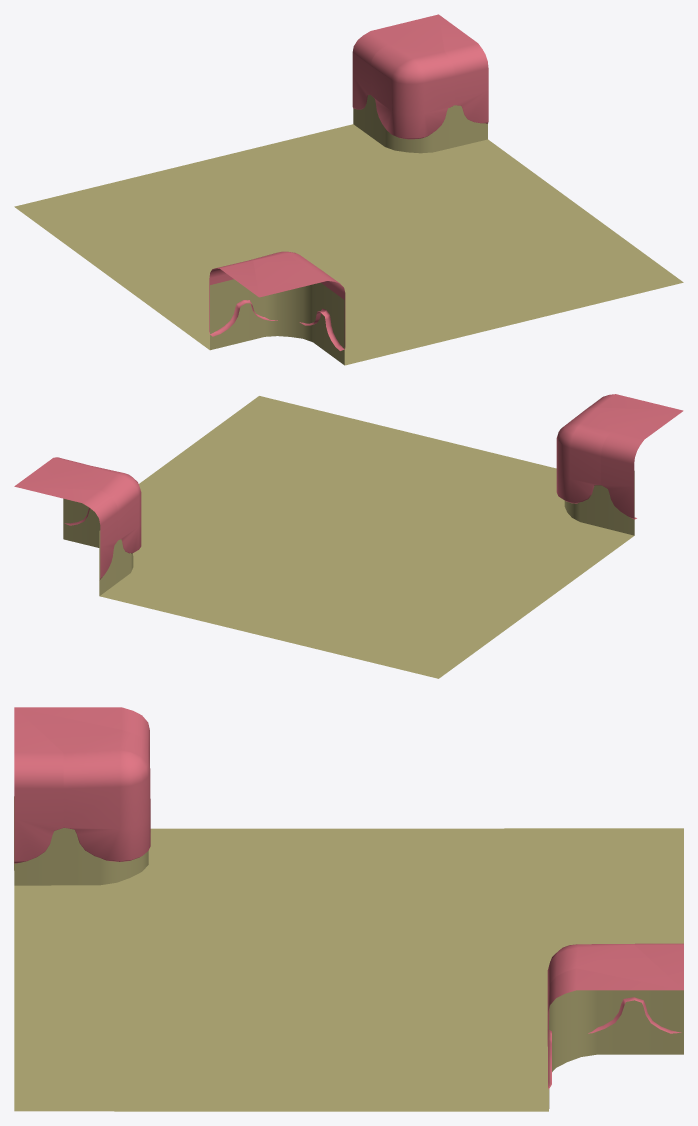
Rendered from SM_Tile_Tips_Diagonal.fbx.
3 renders of one model, top to bottom at view 1: azimuth 30°, elevation 25°; view 2: azimuth 150°, elevation 25°; view 3: azimuth 270°, elevation 25°, orthographic. The views are drawn at different scales.
Parts seen in each view (by area): view 1: SM_Tile_Tips_Diagonal; view 2: SM_Tile_Tips_Diagonal; view 3: SM_Tile_Tips_Diagonal.
Boxes of the visible parts, x1,y1,x2,y2 form: SM_Tile_Tips_Diagonal: [14, 14, 683, 365]; SM_Tile_Tips_Diagonal: [14, 394, 683, 678]; SM_Tile_Tips_Diagonal: [14, 707, 683, 1111].
Bounding box in the file's own units: 100 × 20 × 100.
